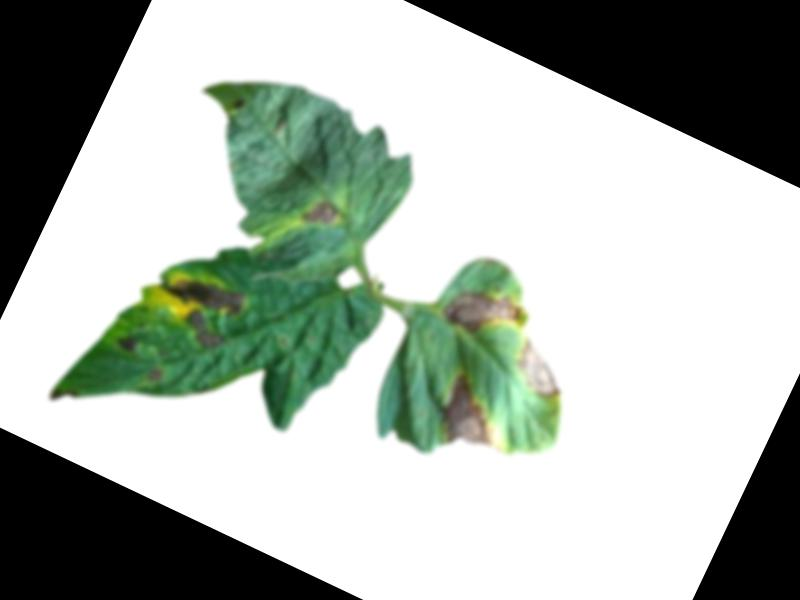Early_blight: (142, 260, 253, 358), (428, 372, 514, 462), (438, 275, 525, 354), (506, 335, 580, 407), (300, 194, 344, 235), (114, 331, 140, 356), (229, 94, 248, 116), (145, 366, 164, 387)
